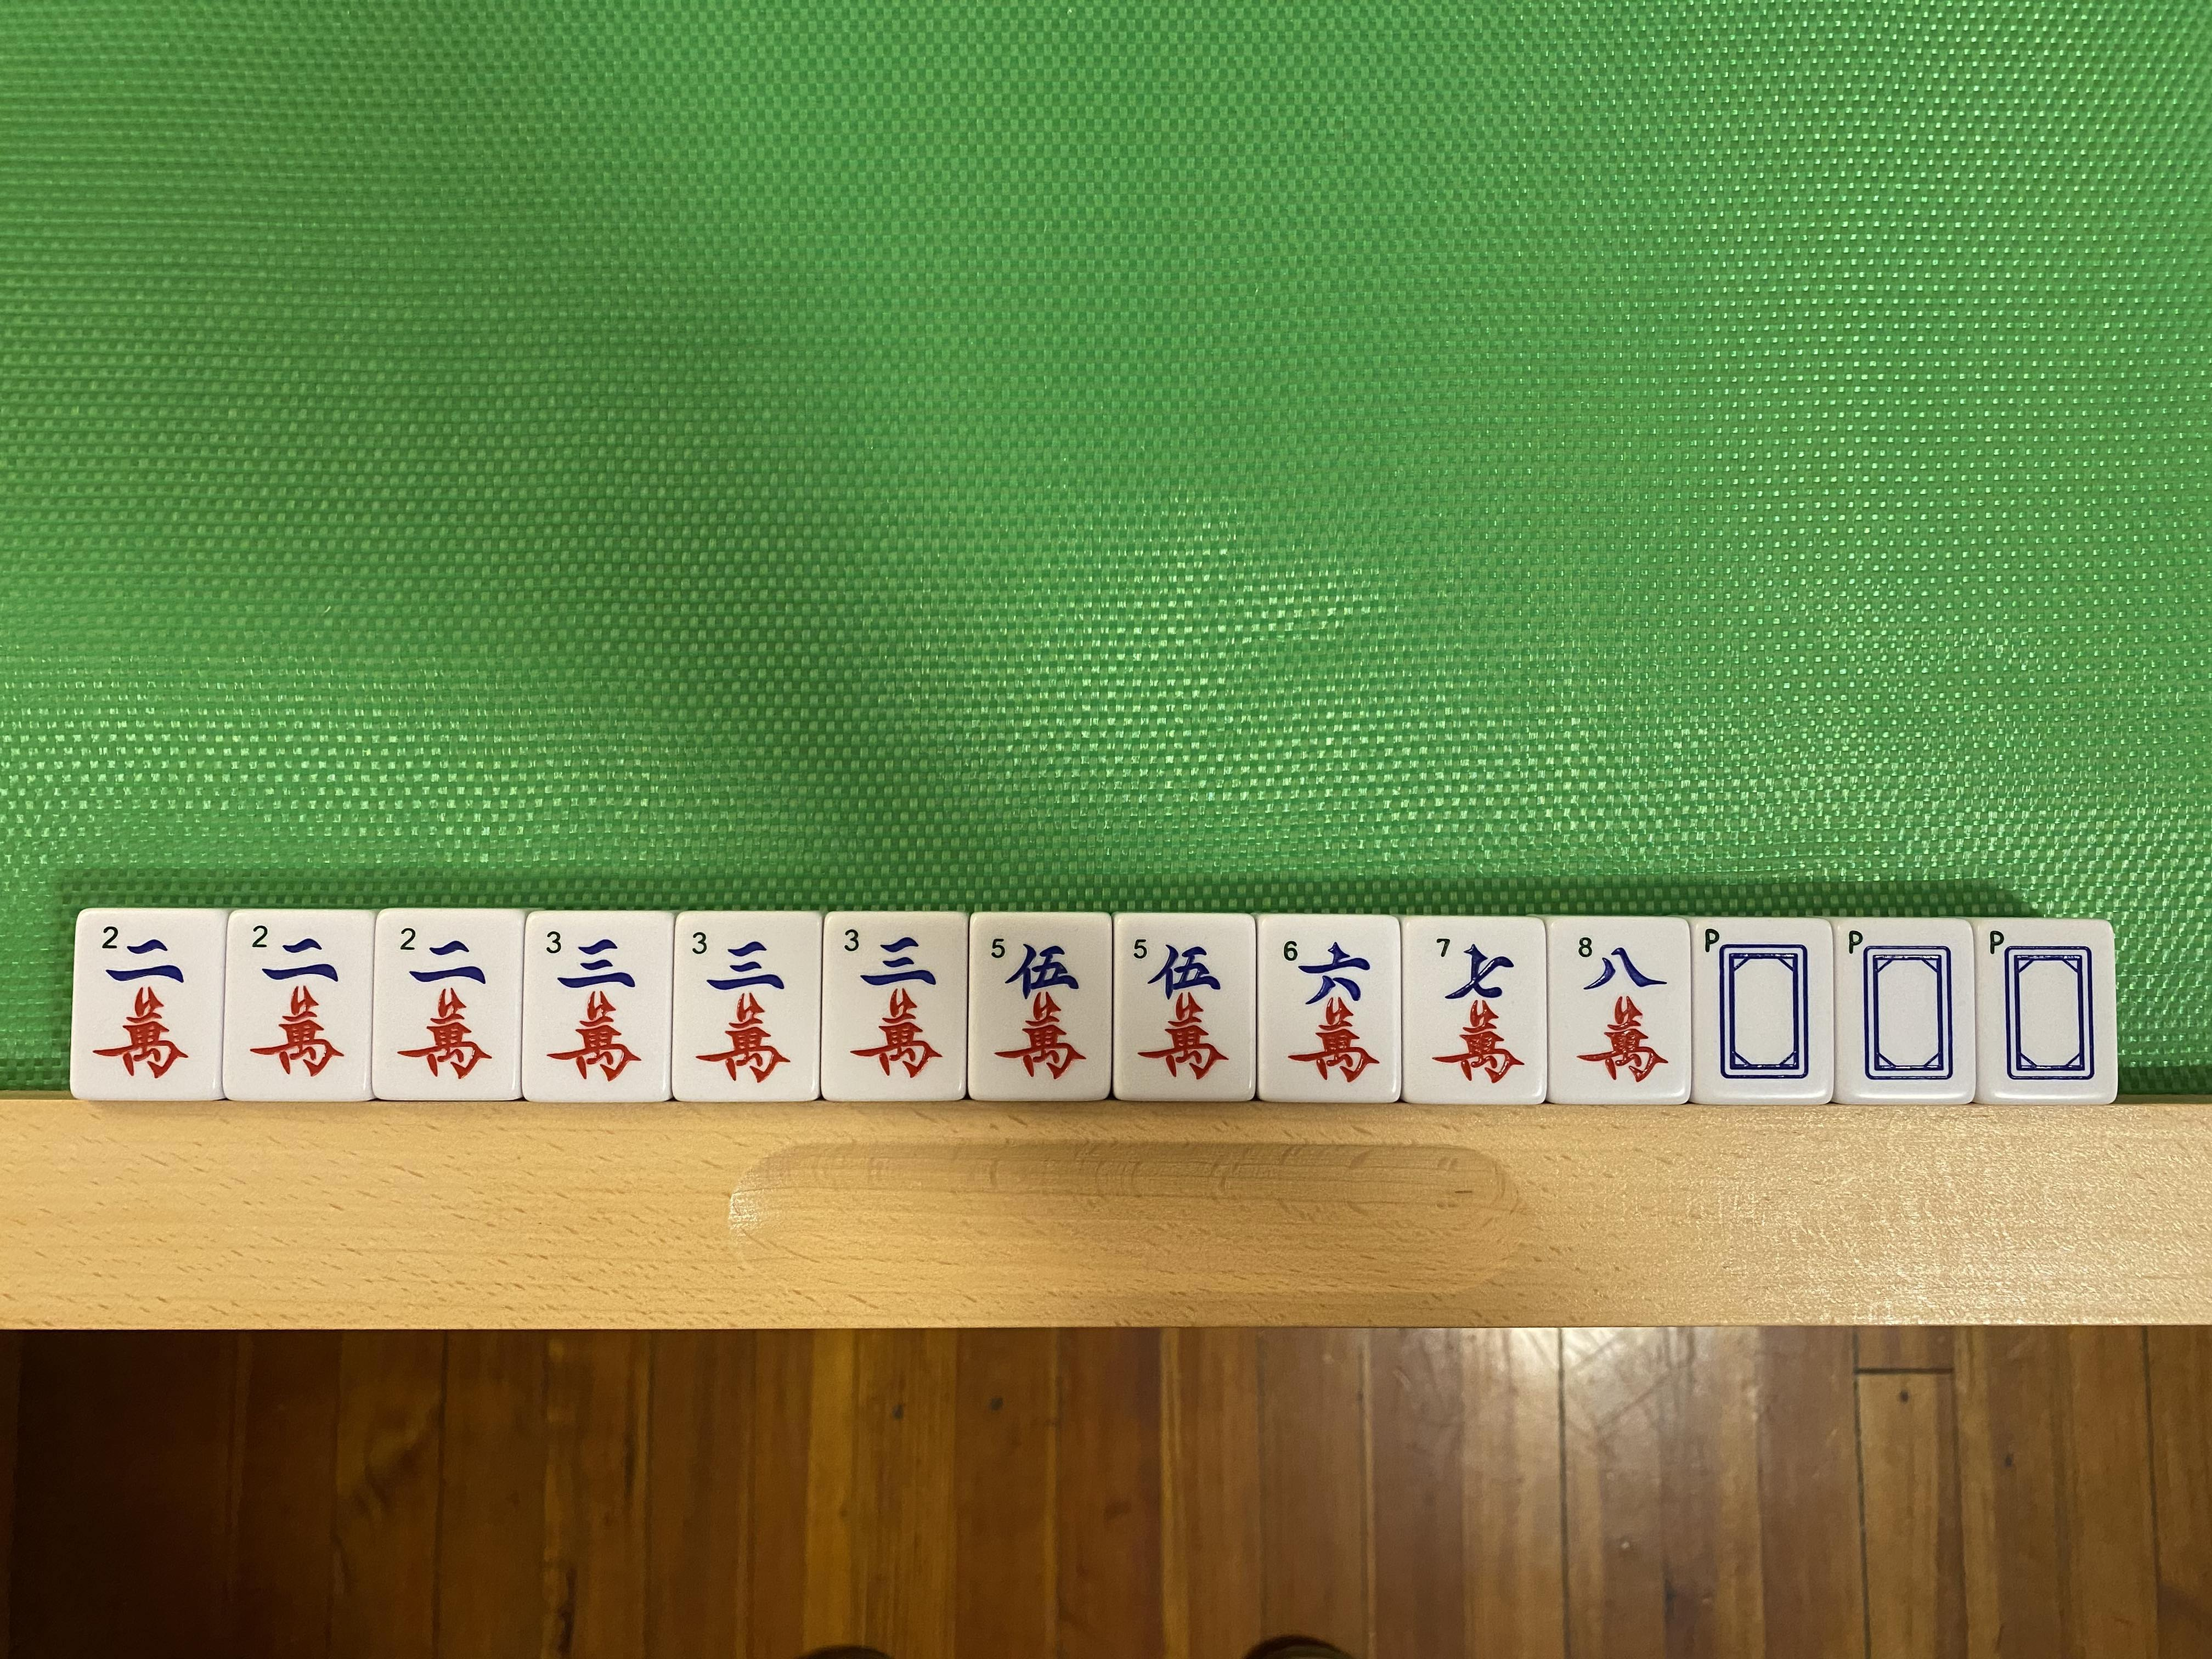character-eight: (1555, 924, 1679, 1093)
character-five: (1122, 925, 1249, 1096), (975, 922, 1101, 1091)
character-seven: (1409, 927, 1534, 1093)
character-six: (1264, 925, 1392, 1093)
character-three: (681, 920, 808, 1094), (535, 922, 662, 1094), (831, 924, 960, 1093)
character-two: (80, 915, 212, 1091), (233, 918, 364, 1093), (381, 920, 509, 1094)
honor-blue_dragon: (1698, 925, 1827, 1098), (1984, 925, 2111, 1098), (1843, 925, 1968, 1100)
